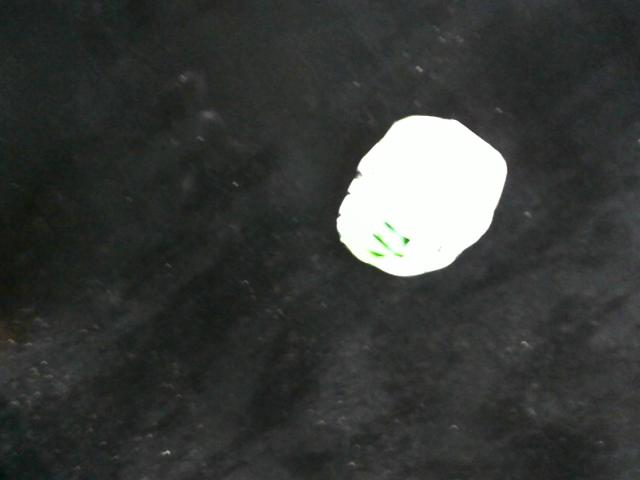can: (334, 115, 512, 282)
